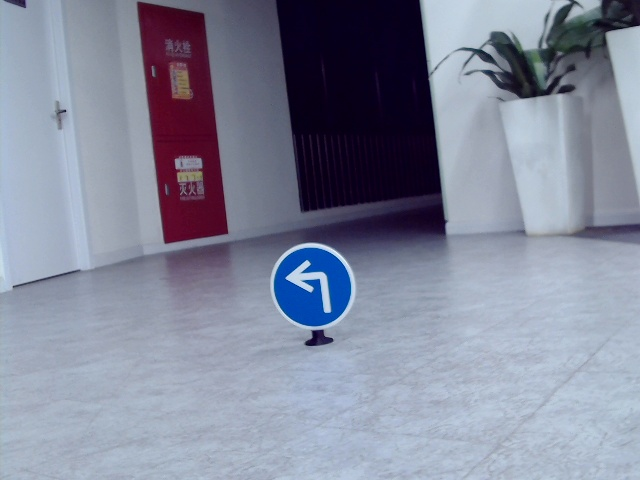turn_left: (284, 258, 335, 314)
